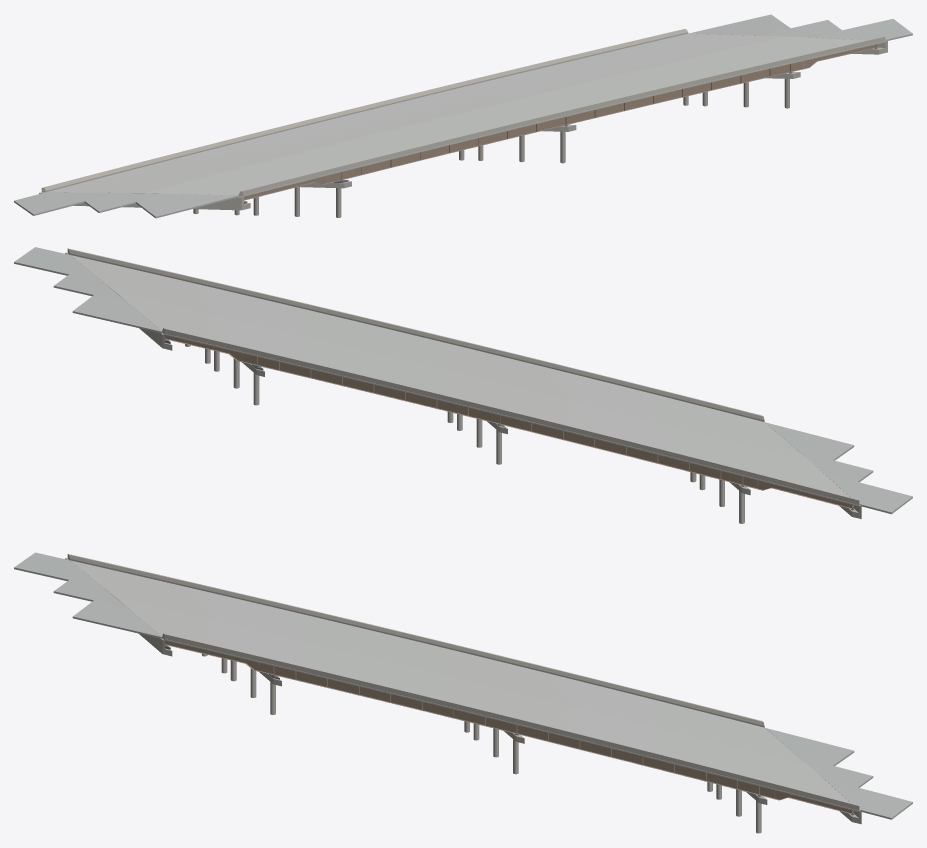
3 renders of one model, top to bottom at view 1: azimuth 30°, elevation 25°; view 2: azimuth 150°, elevation 25°; view 3: azimuth 330°, elevation 25°, orthographic. The views are drawn at different scales.
Parts seen in each view (by area): view 1: deck, plate_2_0, plate_1_0, rcba_-1_0, rcba_-1_2, rcba_1_0, rcba_1_2, rail_1_0, rail_1_3, rail_1_1, rail_1_2, rail_-1_0 (+7 smaller); view 2: deck, plate_1_7, plate_2_7, rcba_1_2, rcba_-1_2, rcba_1_0, rcba_-1_0, rail_-1_3, rail_-1_0, rail_-1_2, rail_-1_1, rail_1_3 (+6 smaller); view 3: deck, plate_1_0, plate_2_0, rcba_-1_0, rcba_1_0, rcba_-1_2, rcba_1_2, rail_1_0, rail_1_3, rail_1_1, rail_1_2, rail_-1_0 (+6 smaller).
Boxes of the visible parts, x1,y1,x2,y2 form: deck: (46, 33, 885, 196); plate_2_0: (566, 64, 790, 124); plate_1_0: (342, 117, 565, 179); rcba_-1_0: (136, 193, 238, 218); rcba_-1_2: (14, 192, 114, 215); rcba_1_0: (811, 19, 912, 40); rcba_1_2: (689, 14, 790, 35); rail_1_0: (41, 146, 206, 192); rail_1_3: (524, 29, 688, 71); rail_1_1: (203, 106, 366, 150); rail_1_2: (364, 67, 527, 110); rail_-1_0: (238, 150, 403, 195); deck: (70, 255, 859, 506); plate_1_7: (500, 415, 742, 485); plate_2_7: (257, 357, 499, 424); rcba_1_2: (72, 295, 162, 332); rcba_-1_2: (823, 473, 912, 514); rcba_1_0: (14, 247, 102, 281); rcba_-1_0: (765, 422, 854, 460); rail_-1_3: (67, 248, 243, 294); rail_-1_0: (589, 372, 764, 421); rail_-1_2: (242, 288, 417, 335); rail_-1_1: (415, 329, 590, 378); rail_1_3: (162, 328, 338, 374); deck: (70, 560, 859, 812); plate_1_0: (274, 666, 516, 733); plate_2_0: (517, 725, 759, 794); rcba_-1_0: (72, 600, 162, 638); rcba_1_0: (824, 779, 912, 819); rcba_-1_2: (14, 552, 102, 587); rcba_1_2: (765, 728, 854, 765); rail_1_0: (67, 554, 243, 599); rail_1_3: (589, 677, 764, 727); rail_1_1: (242, 594, 417, 641); rail_1_2: (415, 635, 590, 683); rail_-1_0: (162, 633, 338, 679).
Size of the model in its own units: 166 by 9.94 by 19.2.
